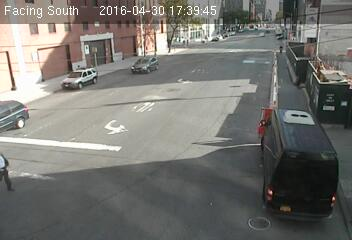neg: (173, 86, 208, 132), (273, 123, 305, 165), (109, 150, 140, 190), (29, 135, 57, 172), (248, 176, 276, 212), (169, 178, 193, 211), (270, 63, 291, 93), (74, 71, 95, 99), (222, 112, 242, 139), (241, 39, 259, 62)
